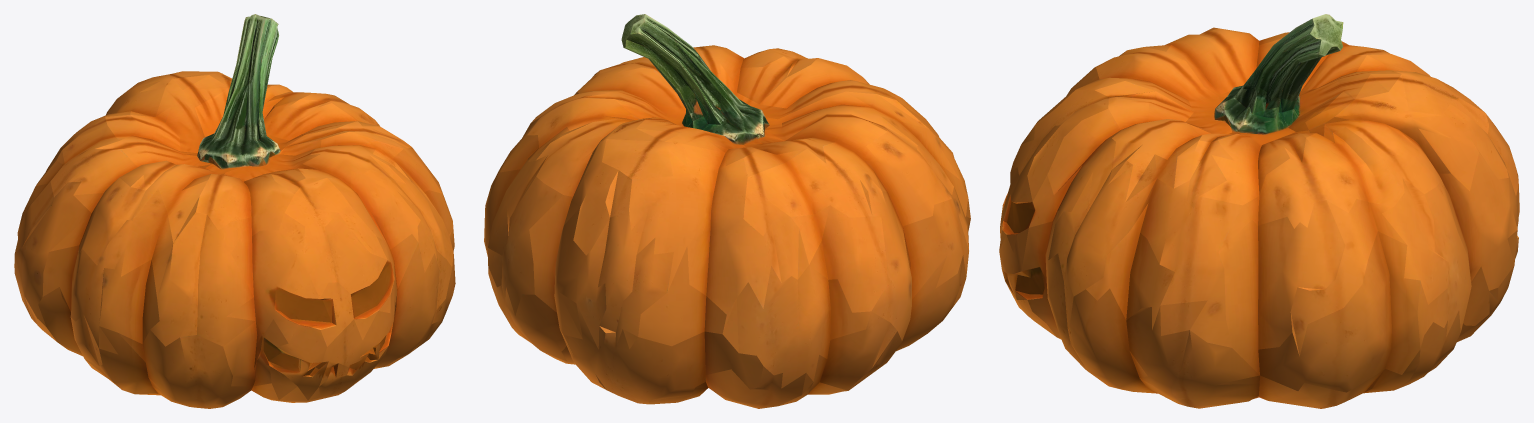
Rendered from pumpkin.glb.
3 renders of one model, left to right at view 1: azimuth 30°, elevation 25°; view 2: azimuth 150°, elevation 25°; view 3: azimuth 270°, elevation 25°, orthographic. The views are drawn at different scales.
Bounding box in the file's own units: 1.83 × 1.43 × 1.9.
Materials: 1 (1 with a texture image).
